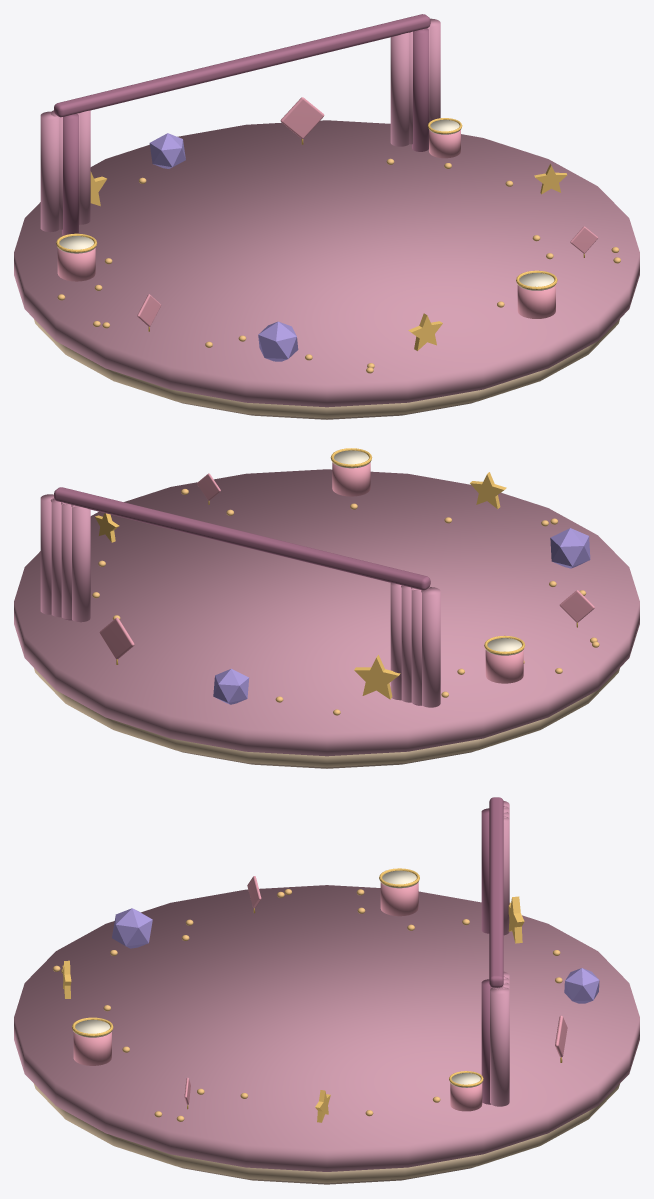
Rendered from world.glb.
The picture shows the model from 3 angles, top to bottom: view 1: azimuth 30°, elevation 25°; view 2: azimuth 150°, elevation 25°; view 3: azimuth 270°, elevation 25°; orthographic projection.
Parts seen in each view (by area): view 1: Cone, Cone.001, Cube, Cone.004, Cone.009, Cone.008, Cone.003, drum.003, drum.002, Cone.007, gem.002, drum.001 (+4 smaller); view 2: Cone, Cone.001, Cube, Cone.004, Cone.009, drum.003, drum.002, Cone.012, Cone.007, gem.002, Cone.011, Cone.006 (+8 smaller); view 3: Cone, Cone.001, Cube, Cone.012, drum.003, drum.002, gem.002, drum.001, Cone.003, Cone.008, gem.001, Cone.007 (+1 smaller).
Part boxes in pixels (bbox=[...]): Cone: bbox=[14, 120, 639, 407]; Cone.001: bbox=[34, 319, 619, 418]; Cube: bbox=[54, 14, 430, 117]; Cone.004: bbox=[40, 111, 59, 232]; Cone.009: bbox=[390, 32, 409, 146]; Cone.008: bbox=[412, 28, 428, 151]; Cone.003: bbox=[62, 113, 78, 235]; drum.003: bbox=[516, 270, 557, 318]; drum.002: bbox=[56, 233, 96, 281]; Cone.007: bbox=[79, 110, 90, 224]; gem.002: bbox=[258, 321, 298, 361]; drum.001: bbox=[427, 118, 462, 158]; Cone: bbox=[14, 469, 639, 756]; Cone.001: bbox=[34, 668, 619, 767]; Cube: bbox=[54, 487, 430, 590]; Cone.004: bbox=[421, 587, 440, 707]; Cone.009: bbox=[71, 504, 90, 622]; drum.003: bbox=[330, 448, 372, 496]; drum.002: bbox=[484, 635, 525, 683]; Cone.012: bbox=[40, 494, 53, 614]; Cone.007: bbox=[390, 582, 401, 700]; gem.002: bbox=[550, 528, 590, 568]; Cone.011: bbox=[50, 498, 66, 617]; Cone.006: bbox=[401, 585, 417, 702]; Cone: bbox=[14, 885, 639, 1171]; Cone.001: bbox=[33, 1083, 620, 1183]; Cube: bbox=[489, 797, 503, 987]; Cone.012: bbox=[490, 986, 509, 1106]; drum.003: bbox=[72, 1017, 113, 1065]; drum.002: bbox=[379, 868, 419, 916]; gem.002: bbox=[112, 908, 152, 948]; drum.001: bbox=[449, 1071, 483, 1111]; Cone.003: bbox=[481, 808, 489, 933]; Cone.008: bbox=[481, 979, 490, 1104]; gem.001: bbox=[564, 968, 599, 1003]; Cone.007: bbox=[503, 816, 509, 935].
Size of the model in its own units: 9.6 by 2.98 by 9.6.
